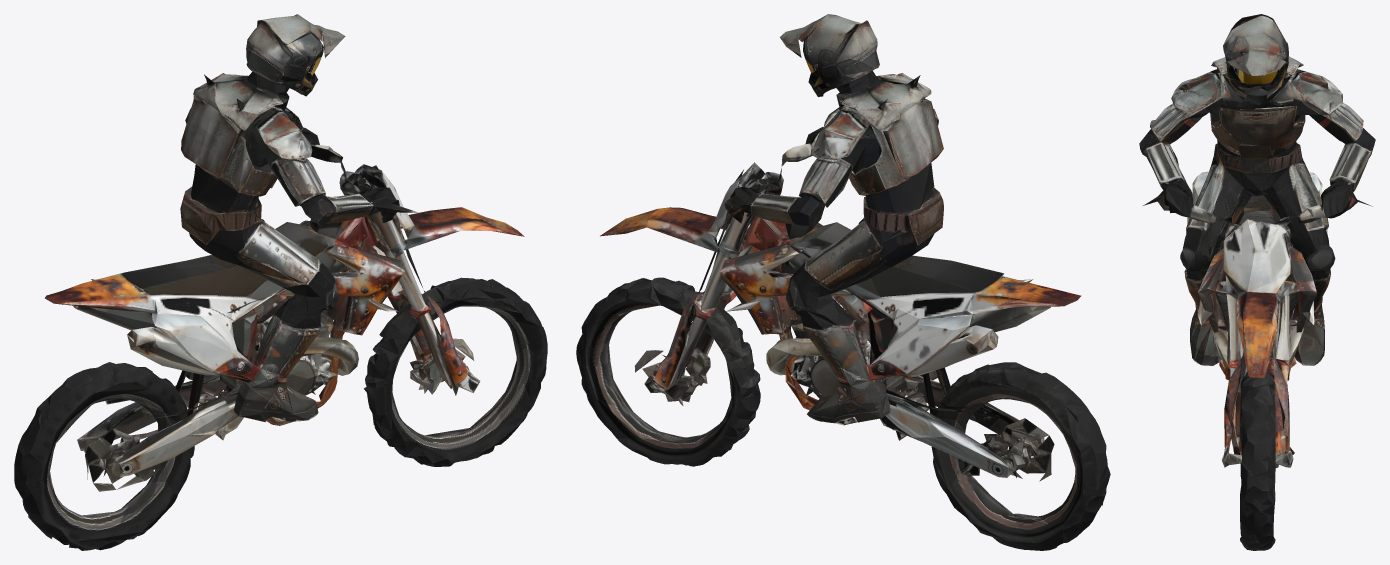
Rendered from hornet_close_lod_2k.glb.
3 renders of one model, left to right at view 1: azimuth 30°, elevation 25°; view 2: azimuth 150°, elevation 25°; view 3: azimuth 270°, elevation 25°, orthographic. The views are drawn at different scales.
Bounding box in the file's own units: 1.9 × 1.67 × 0.8076.
1 material, 1 textured.
